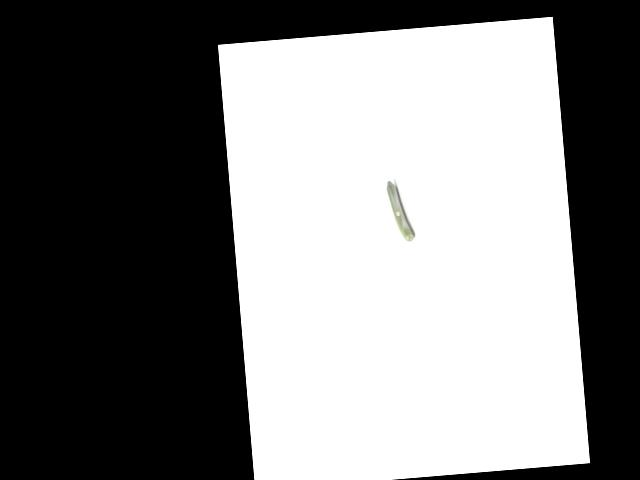cucumber: (386, 179, 414, 243)
